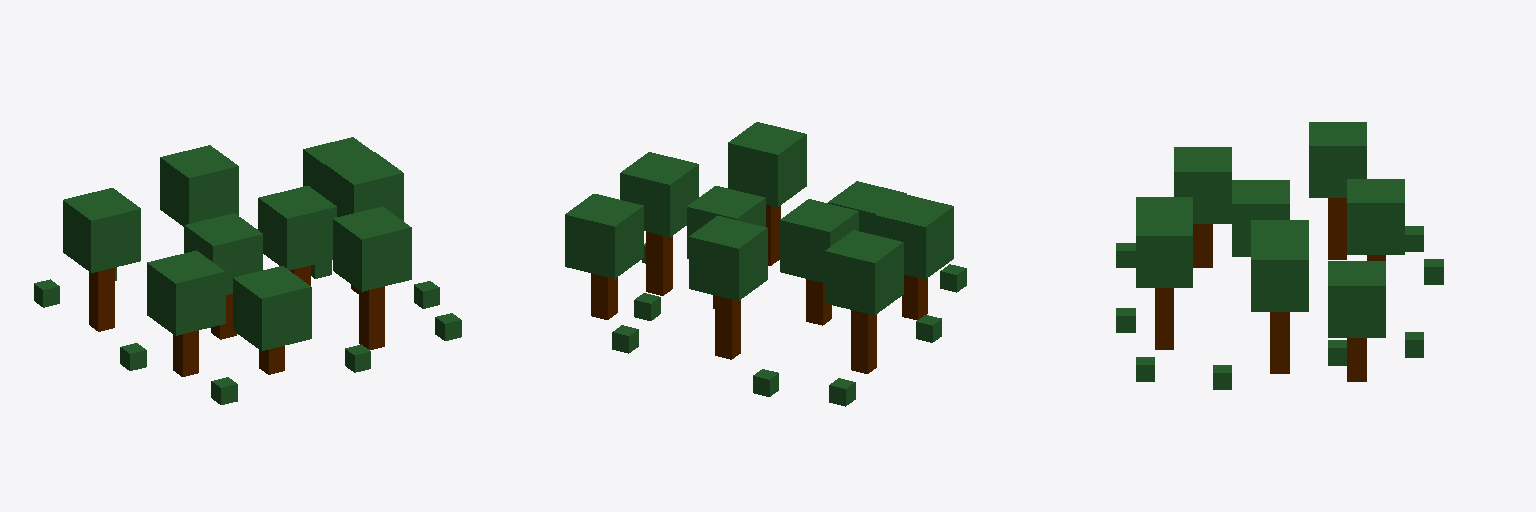
The picture shows the model from 3 angles: view 1: azimuth 30°, elevation 25°; view 2: azimuth 150°, elevation 25°; view 3: azimuth 270°, elevation 25°; orthographic projection.
Visible parts, largest first — view 1: object 1; view 2: object 1; view 3: object 1.
Part boxes in pixels (x1,y1,x2,y2): object 1: (34, 137, 461, 404); object 1: (565, 122, 966, 406); object 1: (1116, 122, 1443, 389).
Bounding box in the file's own units: 5.4 × 2.1 × 5.1.
Materials: 1 (1 with a texture image).